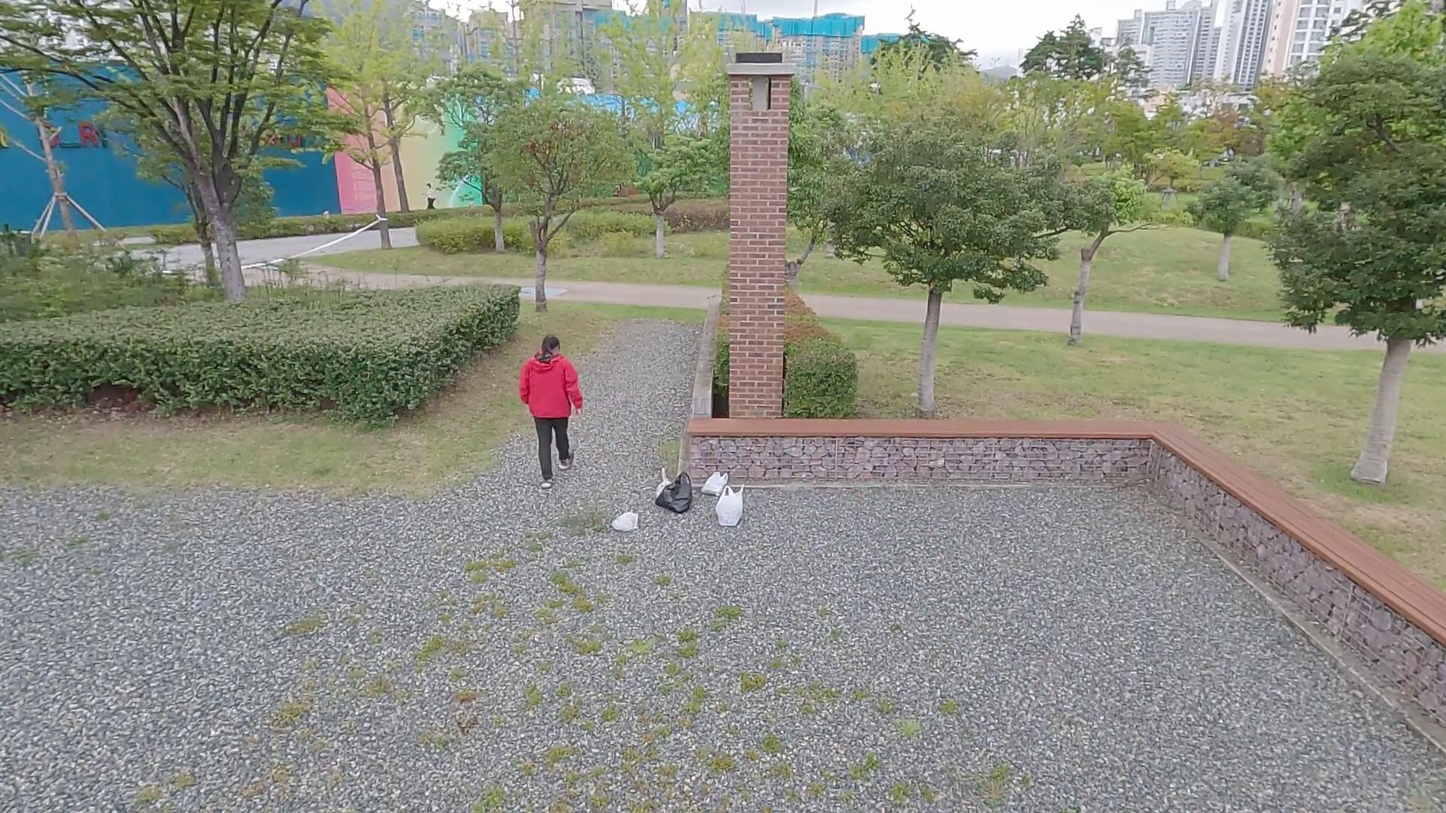person: (519, 333, 585, 490)
trash: (654, 472, 692, 514), (715, 485, 747, 527), (701, 472, 731, 498), (653, 468, 675, 501), (612, 510, 641, 533)
